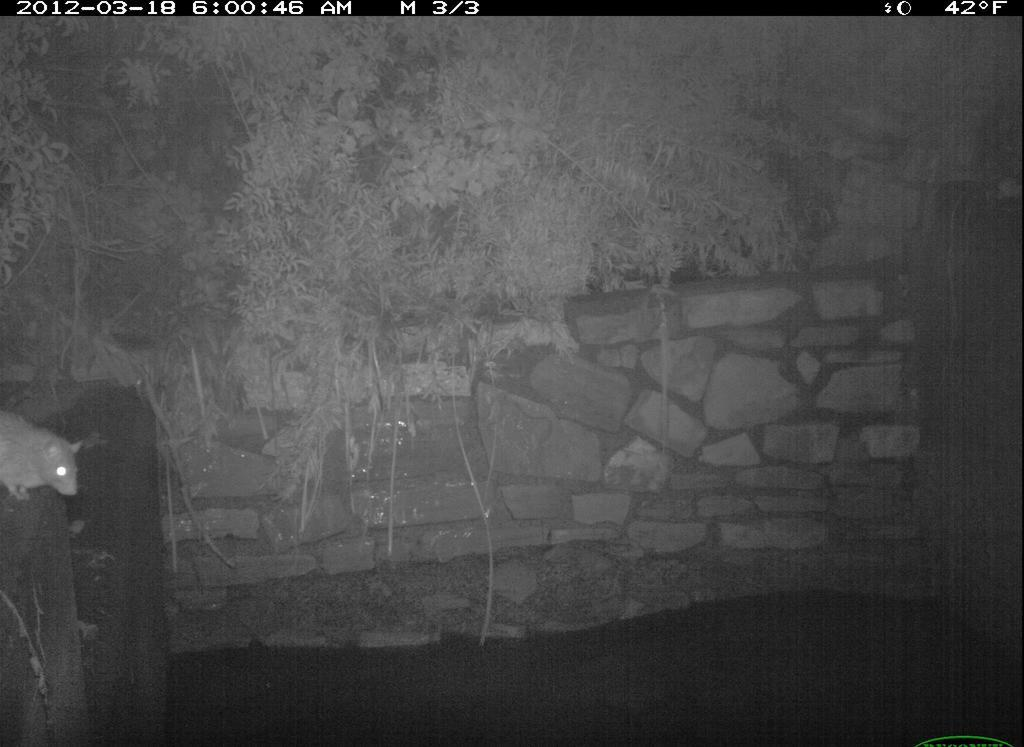rodent: (3, 399, 95, 515)
